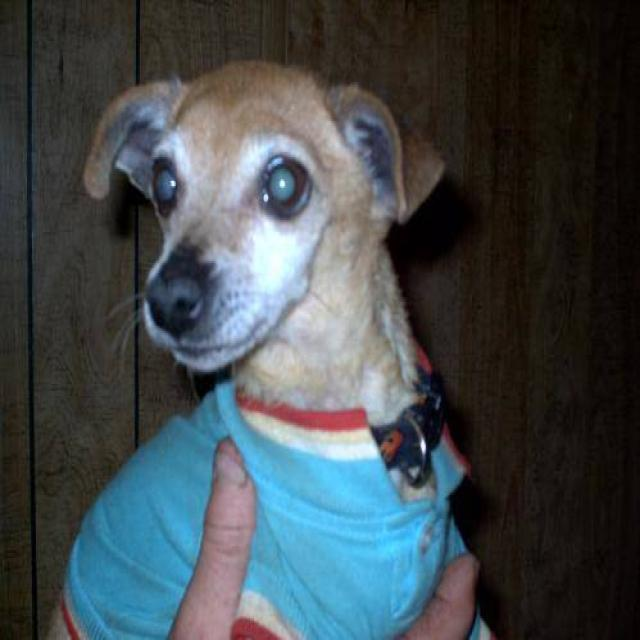dog: (40, 56, 512, 638)
